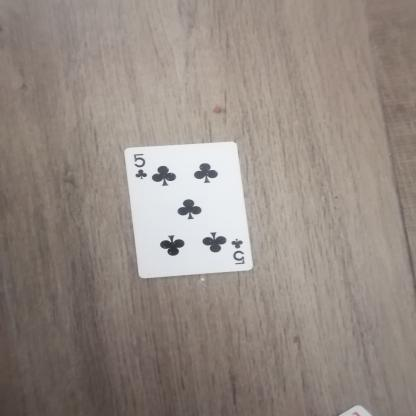5C: (225, 230, 255, 268), (127, 143, 150, 190)
